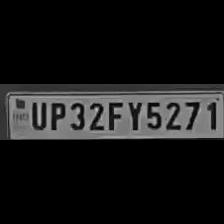1: (202, 99, 220, 130)
2: (86, 99, 104, 131), (163, 99, 181, 130)
3: (67, 99, 85, 130)
5: (142, 98, 162, 130)
7: (180, 98, 200, 130)
F: (104, 98, 124, 130)
P: (46, 99, 66, 131)
U: (27, 99, 45, 130)
Y: (124, 98, 142, 132)
